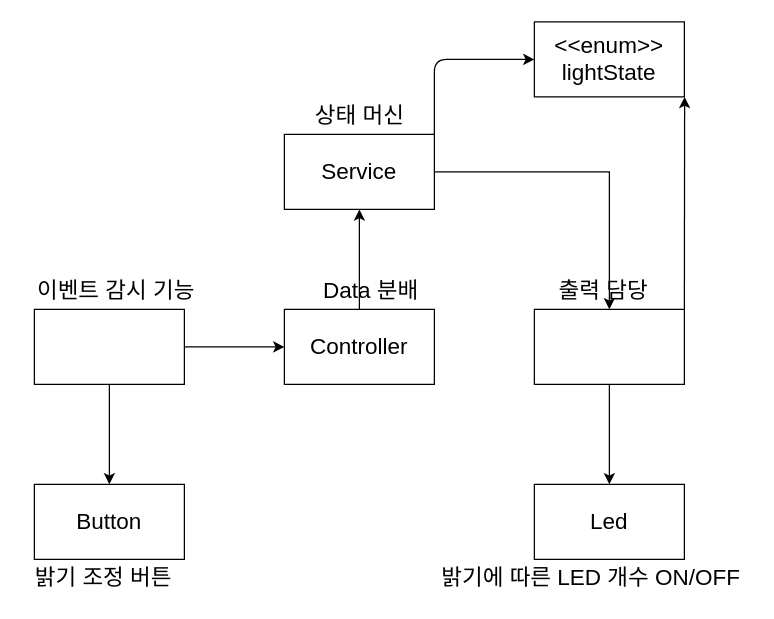
The diagram is 774 pixels wide and 619 high, and some of its shapes have lost their labels. Each missing label, with the centre of its shape:
Listener: pixel 108 346
View: pixel 608 346
